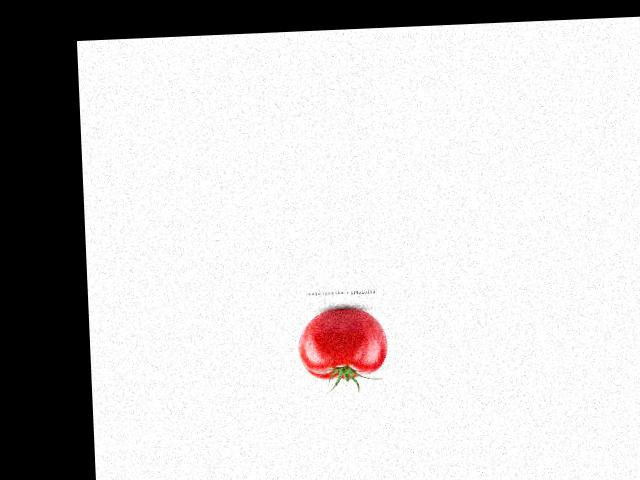tomato: (297, 307, 389, 379)
